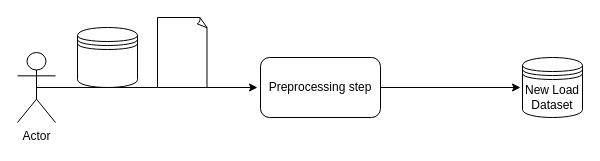
Image size: 600x161. Some labels were removed from this diagram. The centre of each missing label's shape, as x and y in pixels:
Config: the point at 182,52
Load Data: the point at 107,57
